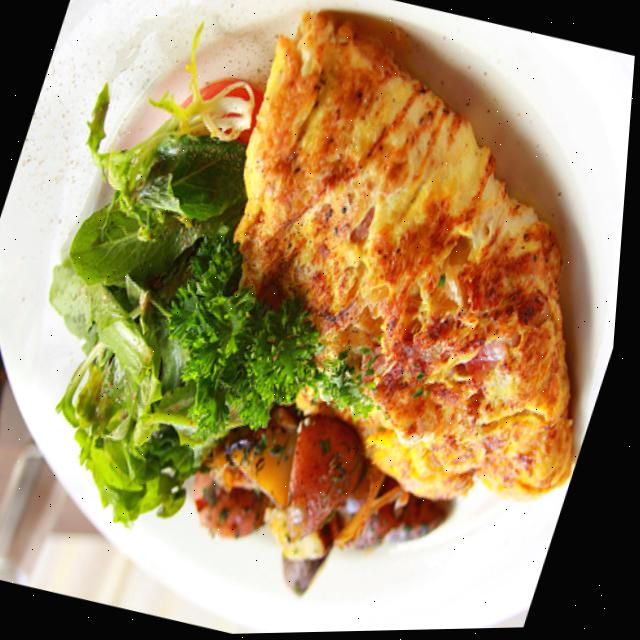鸡蛋料理: (148, 0, 640, 550)
